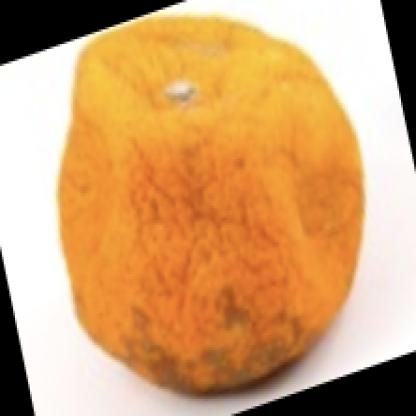rotten: (63, 22, 362, 390)
